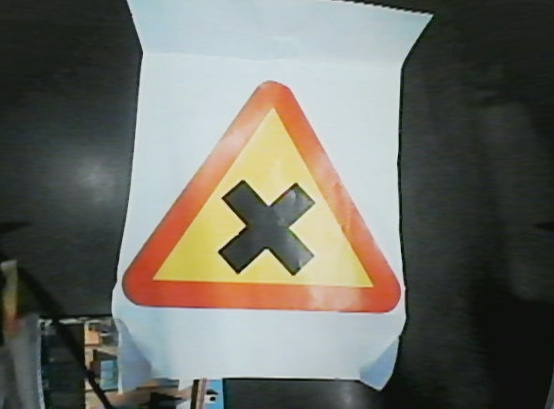junction: (119, 79, 405, 315)
